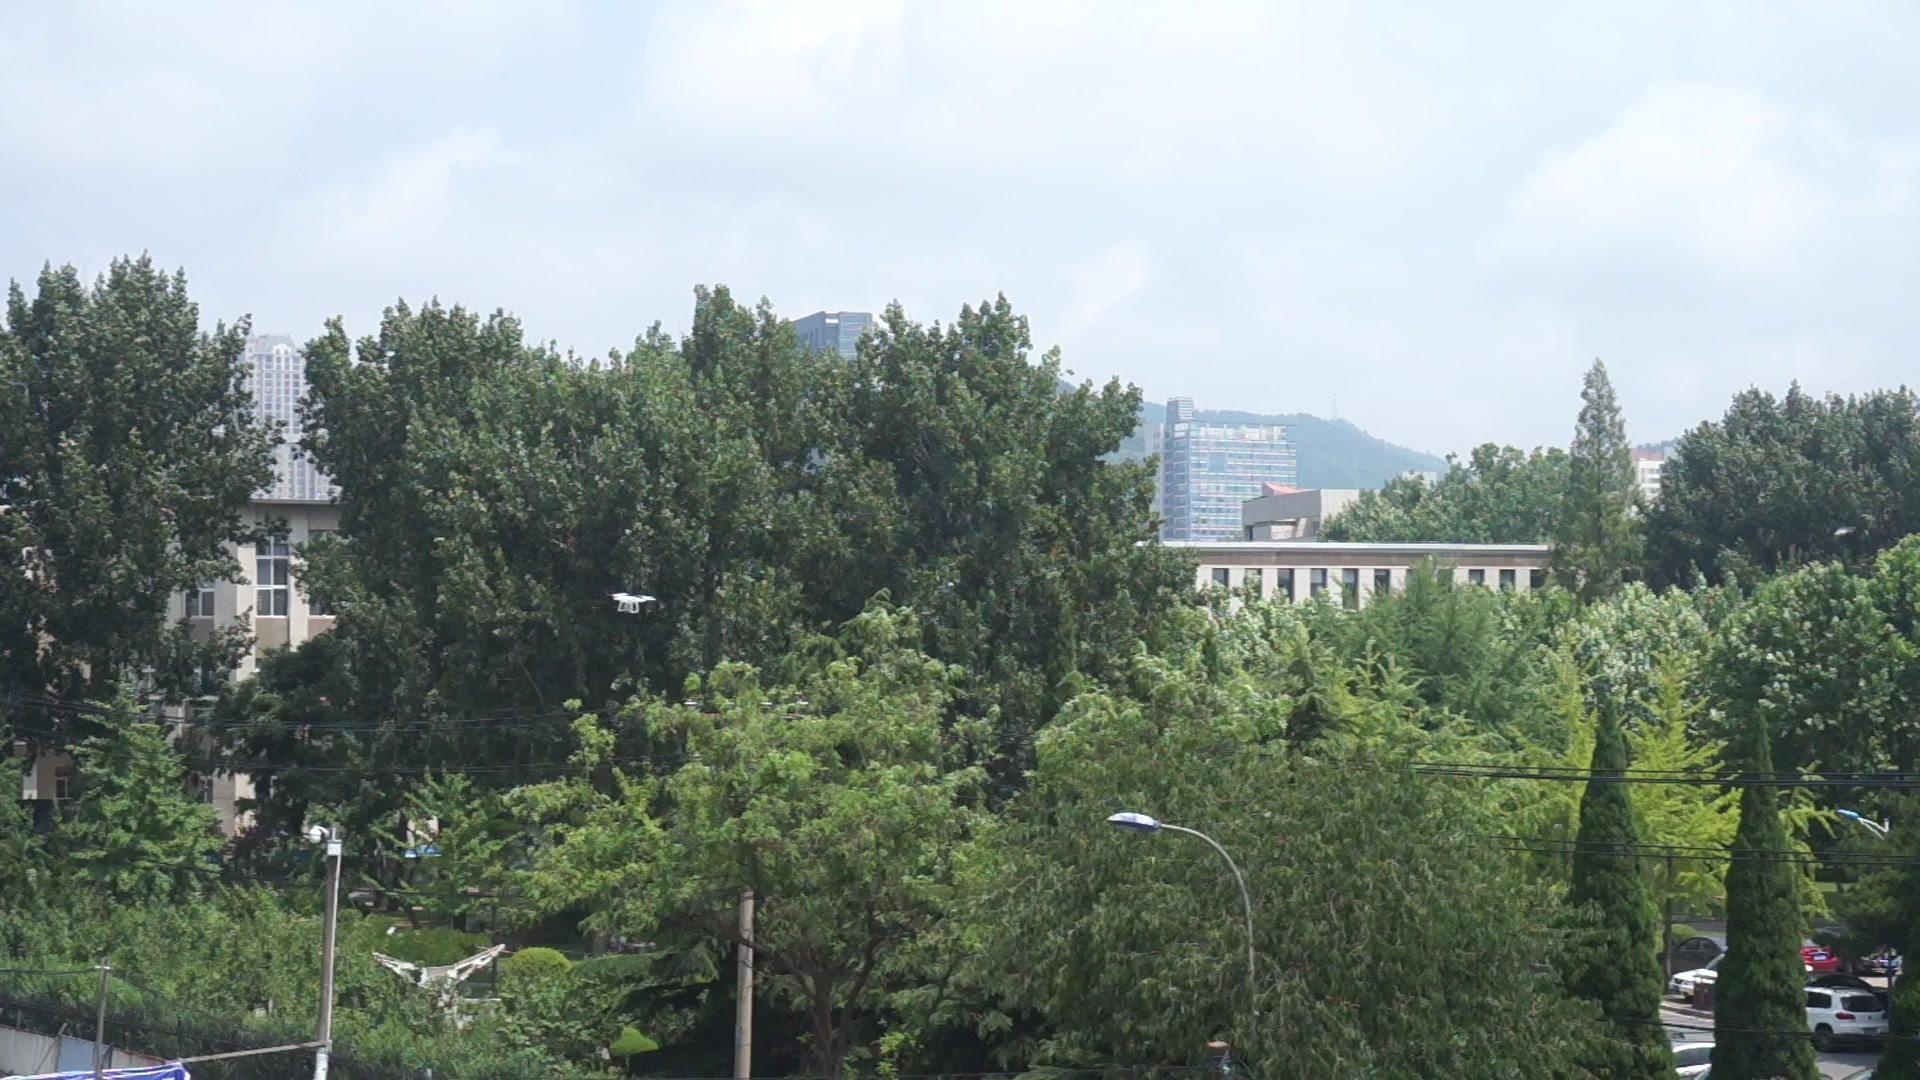UAV: (611, 593, 657, 615)
